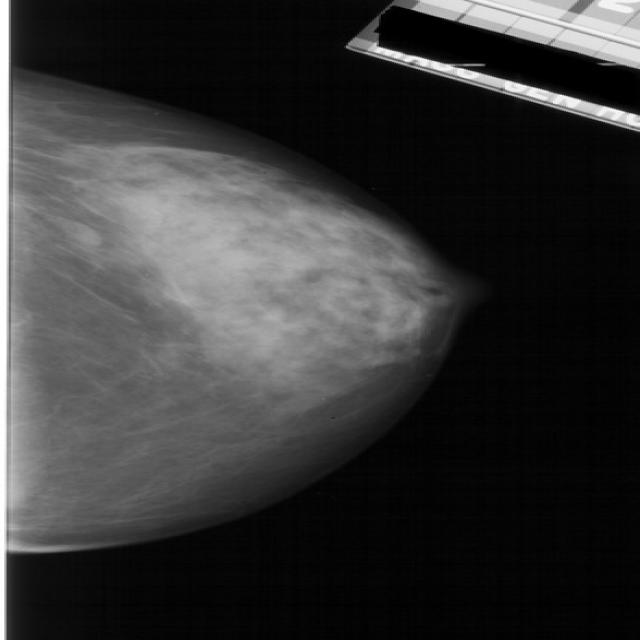tumour: (57, 218, 100, 247)
